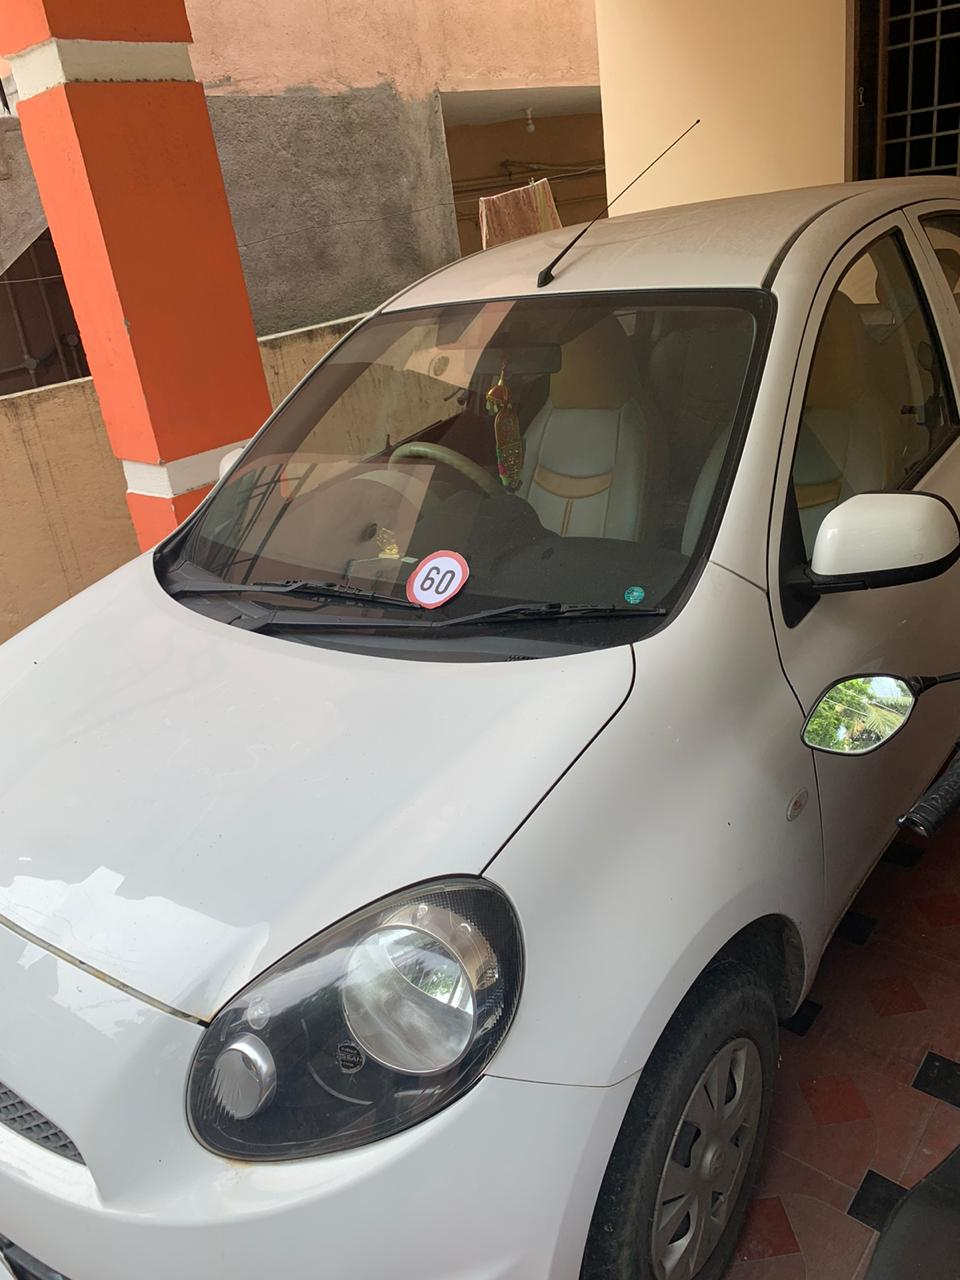SPEED LIMIT (60 KM/H): (391, 535, 482, 603)
